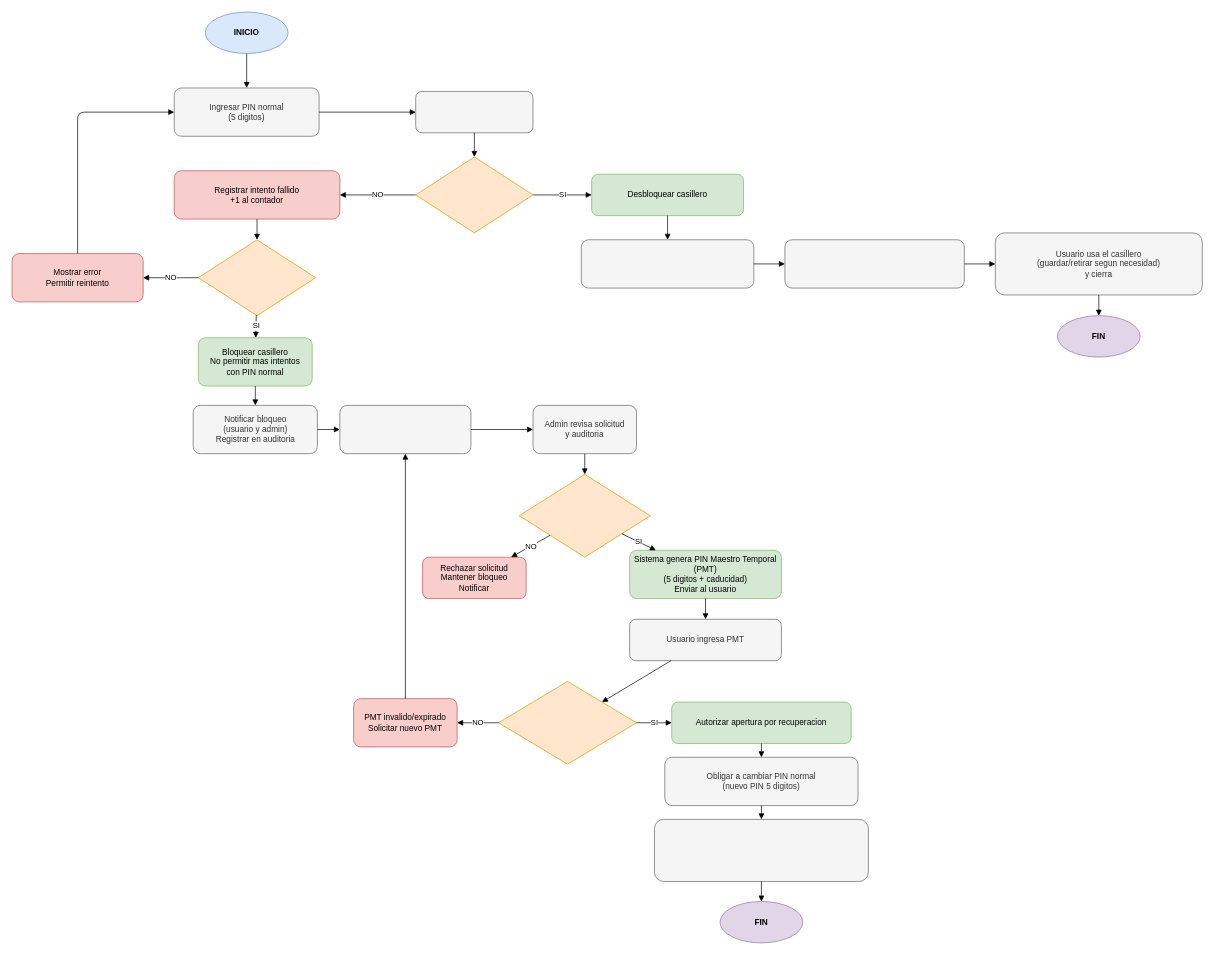
The diagram is 1214 pixels wide and 955 high, and some of its shapes have lost their labels. Each missing label, with the centre of its shape:
"Admin aprueba?" goes at point 584,515.
"Intentos = 3?" goes at point 257,277.
"PIN correcto?" goes at point 474,194.
"PMT valido y vigente?" goes at point 567,722.
"Registrar evento en auditoria (apertura exitosa)" goes at point 874,263.
"Reiniciar contador de intentos (intentos = 0)" goes at point 667,263.
"Reiniciar intentos = 0 Desbloquear casillero Registrar cierre de recuperacion" goes at point 761,850.
"Usuario solicita recuperacion desde la app movil" goes at point 405,429.
"Validar PIN" goes at point 474,112.
